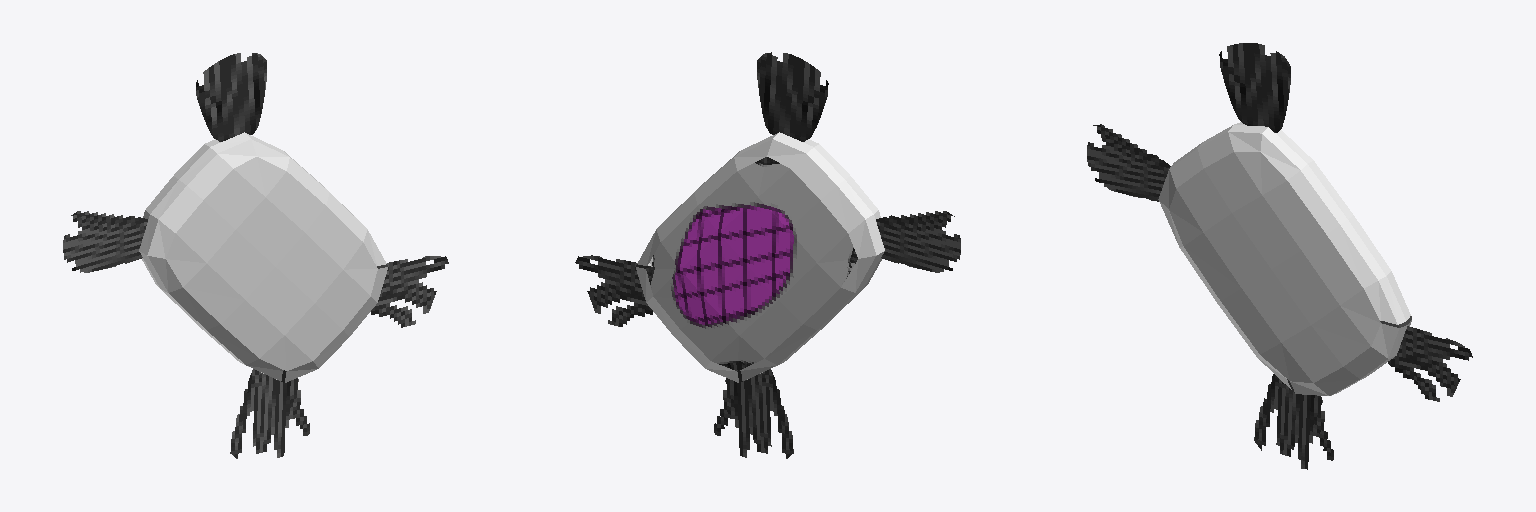
The picture shows the model from 3 angles: view 1: azimuth 30°, elevation 25°; view 2: azimuth 150°, elevation 25°; view 3: azimuth 330°, elevation 25°; orthographic projection.
Visible parts, largest first — view 1: Blanket_Cube.182; view 2: Blanket_Cube.182; view 3: Blanket_Cube.182.
Boxes of the visible parts, x1,y1,x2,y2 form: Blanket_Cube.182: [63, 53, 448, 458]; Blanket_Cube.182: [575, 52, 960, 458]; Blanket_Cube.182: [1087, 43, 1472, 469].
Size of the model in its own units: 2.49 by 2.56 by 0.3156.
Materials: 1 (1 with a texture image).